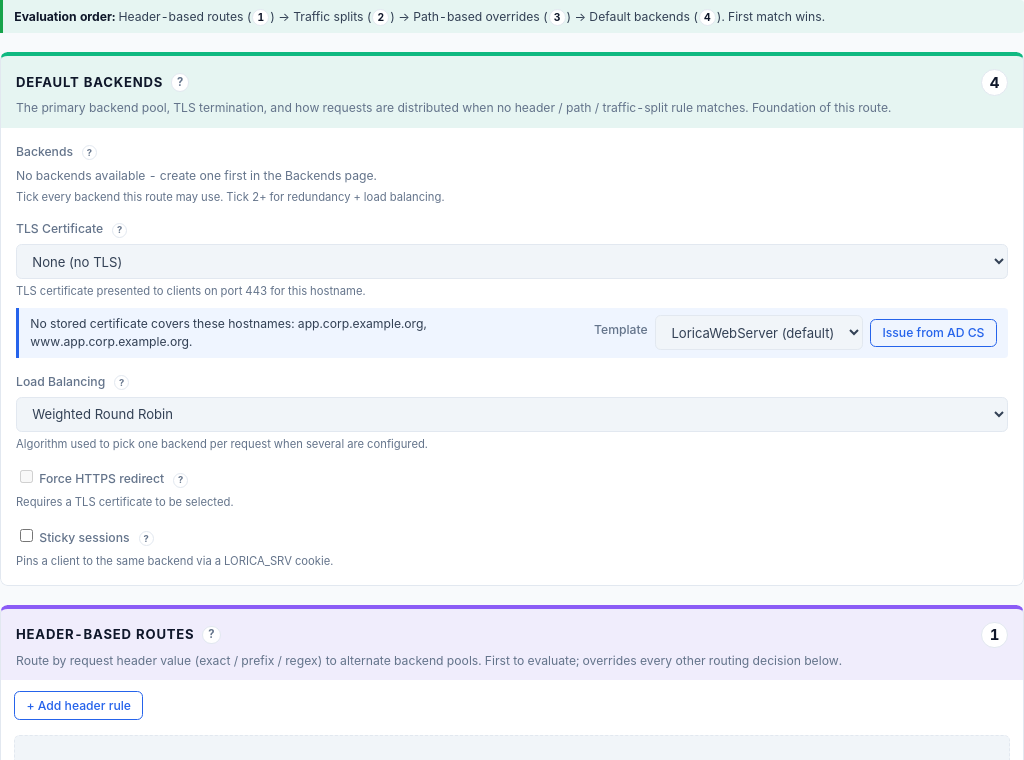
Test: RoutingTab AD CS issuance › confirms the uncovered names, then selects the issued certificate
The width and height of the screenshot is (1024, 760).
Click the button "Issue from AD CS" at (933, 333), box x1=870 y1=318 x2=997 y2=347
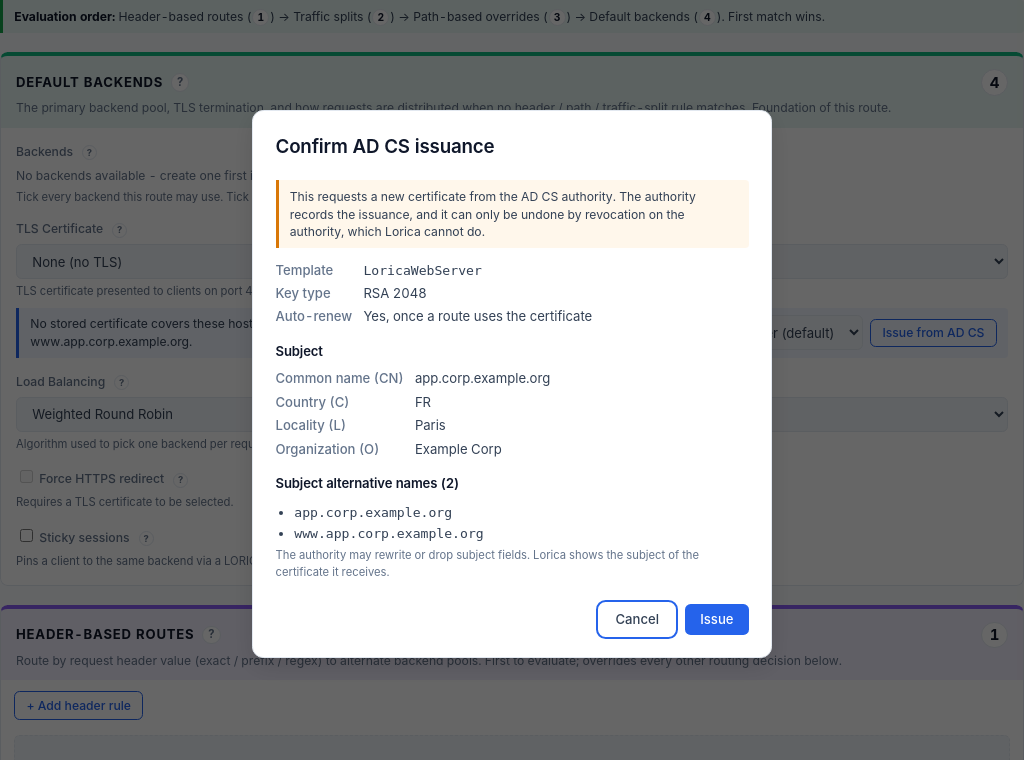
Click the button "Issue" at (717, 619), box x1=685 y1=604 x2=748 y2=634
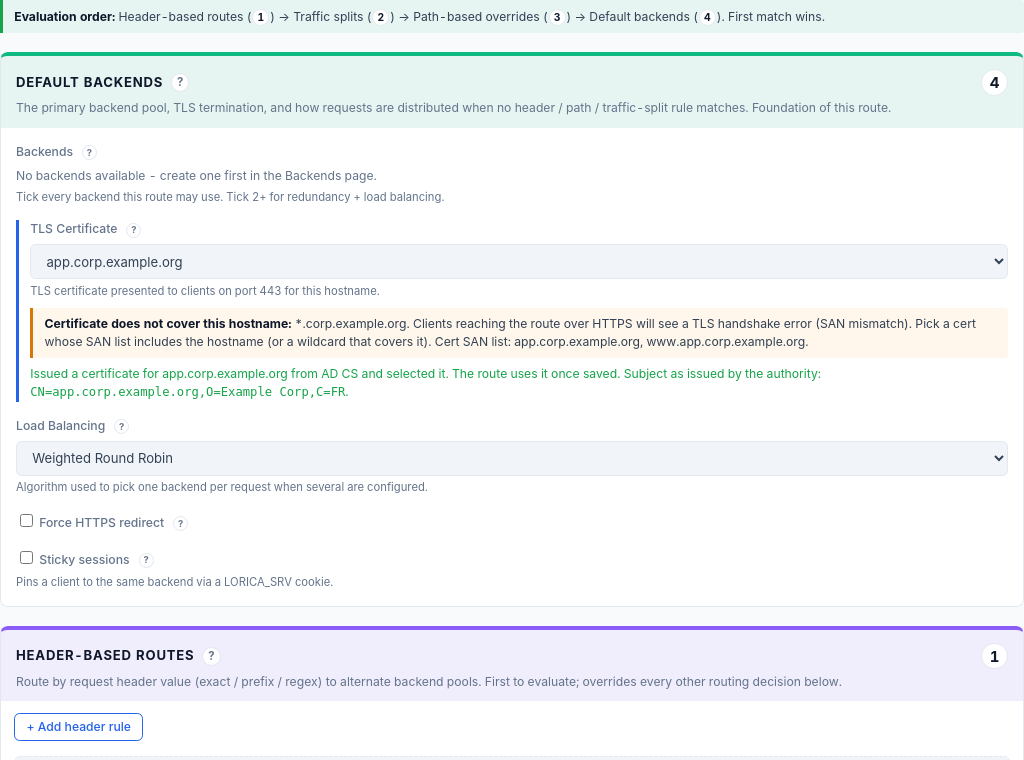
Check: the dropdown with id "certificate" shows "app.corp.example.org", box x1=30 y1=244 x2=1008 y2=279
Check: the message with test id "adcs-route-outcome" shows "once saved", box x1=30 y1=366 x2=624 y2=381
Check: the message with test id "adcs-route-outcome" shows "Subject as issued by the authority: CN=app.corp.example.org,O=Example Corp,C=FR", box x1=30 y1=366 x2=821 y2=399
